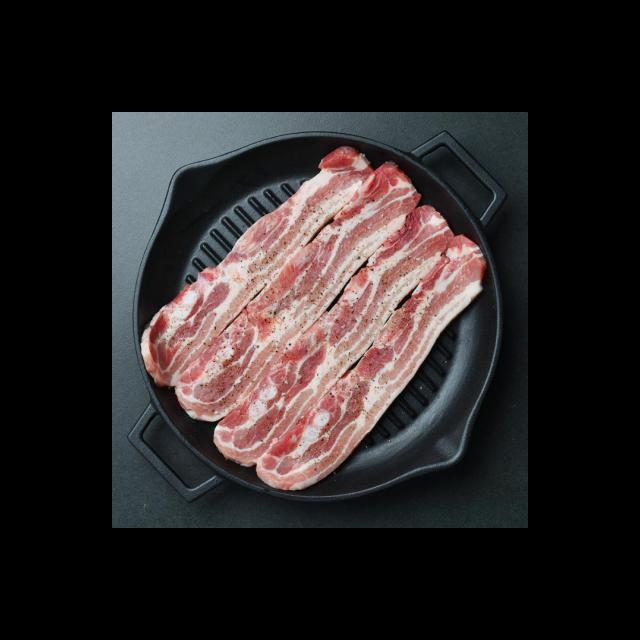pork: (183, 157, 454, 470)
